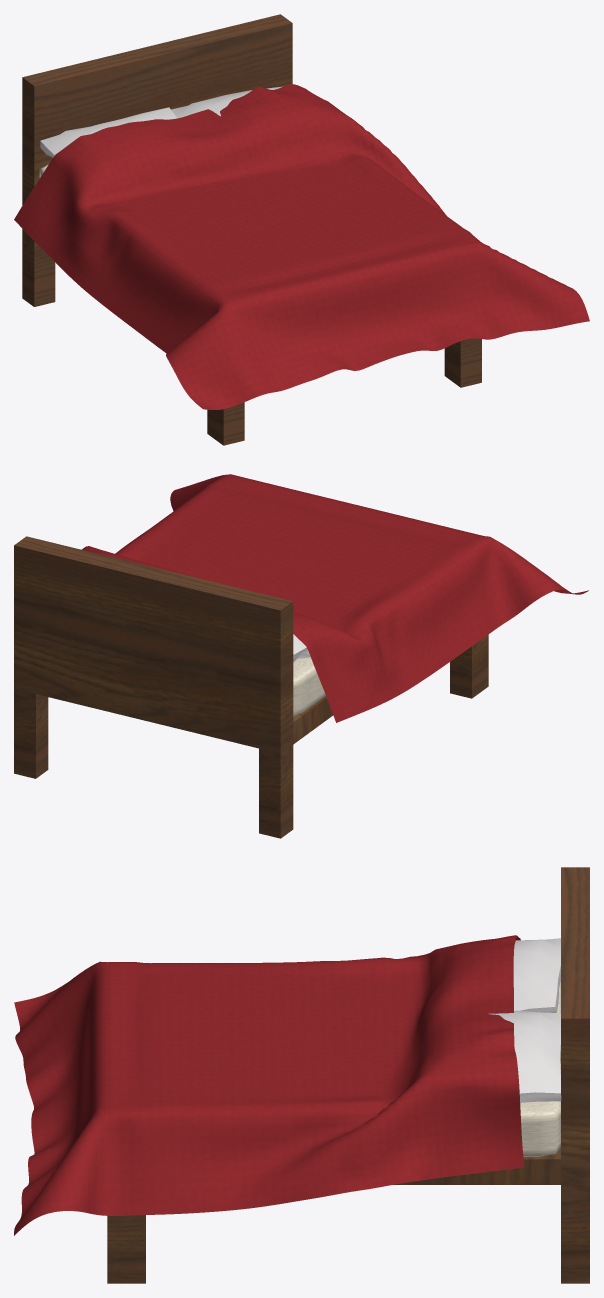
File: Bed.fbx
The picture shows the model from 3 angles, top to bottom: view 1: azimuth 30°, elevation 25°; view 2: azimuth 150°, elevation 25°; view 3: azimuth 270°, elevation 25°; orthographic projection. The views are drawn at different scales.
Parts seen in each view (by area): view 1: Blanket, RT_IP_Furniture:Bedframe, Pillow, Pillow1; view 2: RT_IP_Furniture:Bedframe, Blanket, Mattress; view 3: Blanket, RT_IP_Furniture:Bedframe, Pillow1, Pillow, Mattress.
Part boxes in pixels (<box>): Blanket: <box>14,84,589,409</box>; RT_IP_Furniture:Bedframe: <box>22,14,481,445</box>; Pillow: <box>40,107,177,157</box>; Pillow1: <box>171,86,282,118</box>; RT_IP_Furniture:Bedframe: <box>14,536,488,838</box>; Blanket: <box>82,474,588,722</box>; Mattress: <box>293,657,325,716</box>; Blanket: <box>14,935,524,1235</box>; RT_IP_Furniture:Bedframe: <box>107,867,589,1283</box>; Pillow1: <box>488,1010,561,1102</box>; Pillow: <box>513,938,560,1012</box>; Mattress: <box>520,981,560,1156</box>.
Bounding box in the file's own units: 2.89 × 1.56 × 3.07.
